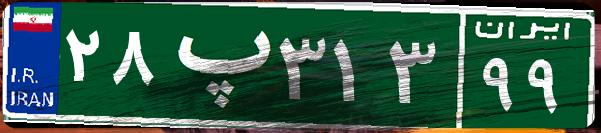1: (330, 28, 385, 110)
2: (57, 26, 110, 107)
3: (385, 28, 445, 110), (273, 28, 330, 110)
8: (110, 28, 158, 105)
9: (475, 38, 525, 113), (525, 38, 570, 115)
پ: (158, 15, 273, 115)
